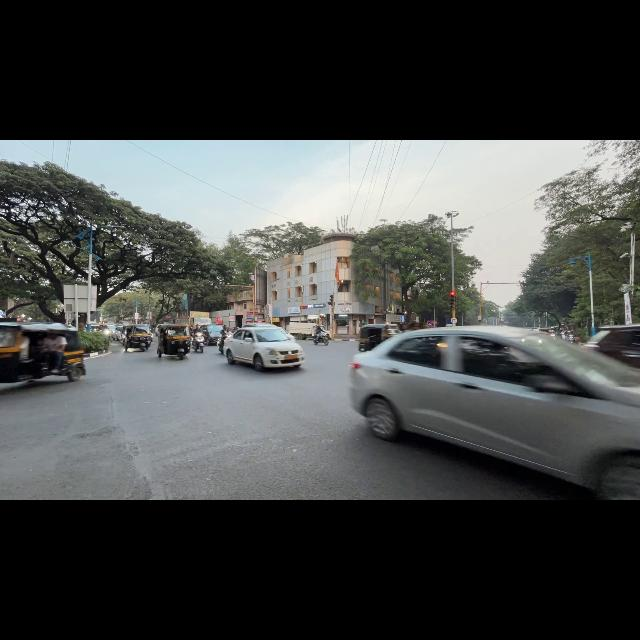car: (350, 326, 639, 499), (224, 327, 304, 370), (585, 325, 639, 367), (245, 323, 295, 340), (198, 324, 228, 346)
motorcycle: (218, 334, 232, 354), (192, 332, 204, 352), (314, 334, 329, 345)
truck: (288, 322, 316, 340), (180, 311, 212, 326)
